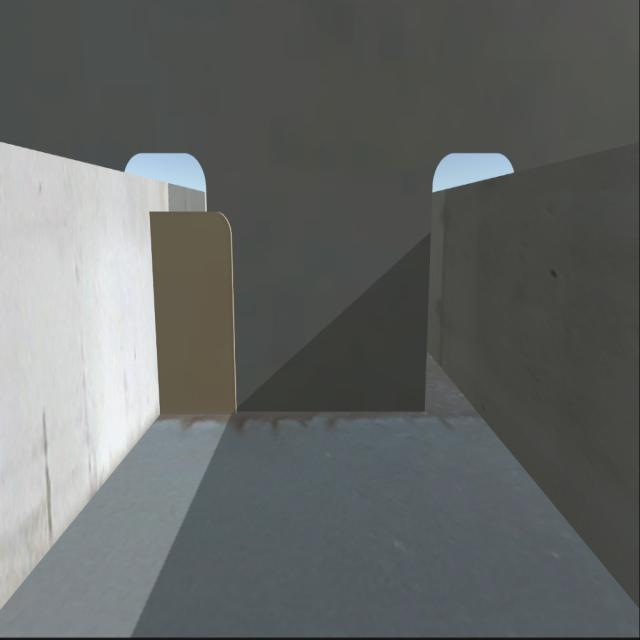fillet_yong_jeop_jang: (154, 406, 424, 422)
longi_yong_jeop_jang: (135, 211, 165, 421)
plate_CP05: (134, 207, 241, 410)
